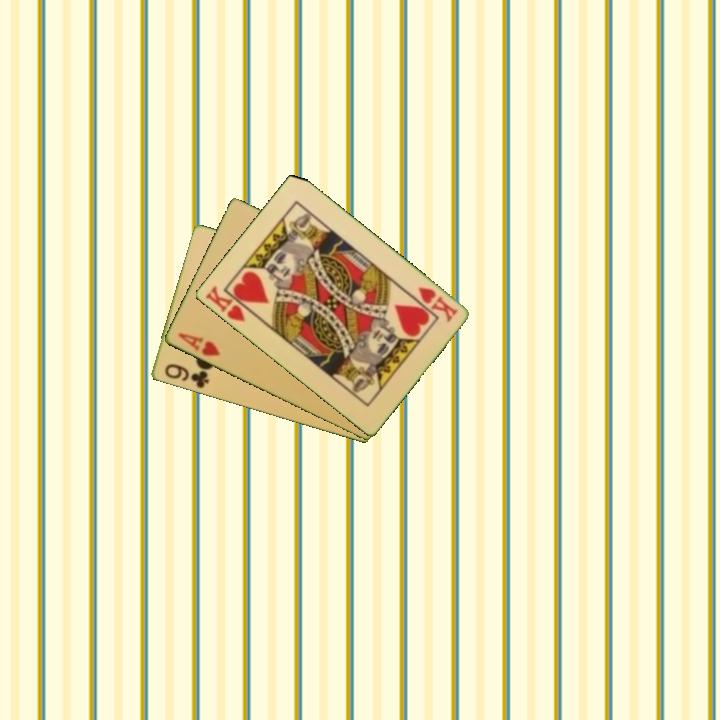9c: (161, 360, 212, 391)
Ah: (174, 329, 223, 359)
Kh: (201, 282, 256, 325), (414, 283, 460, 325)
